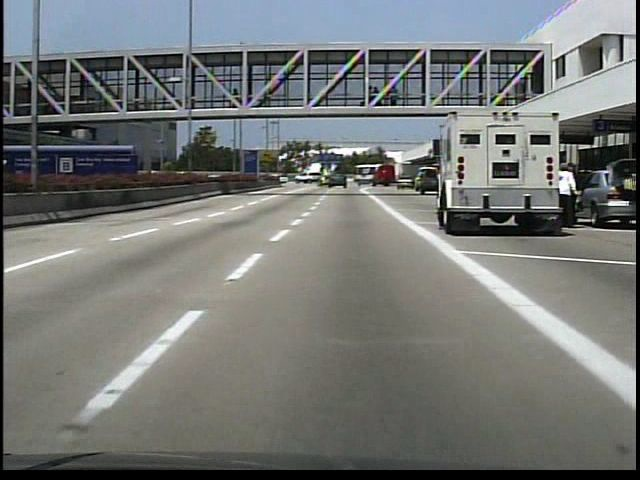person: (556, 157, 578, 229)
